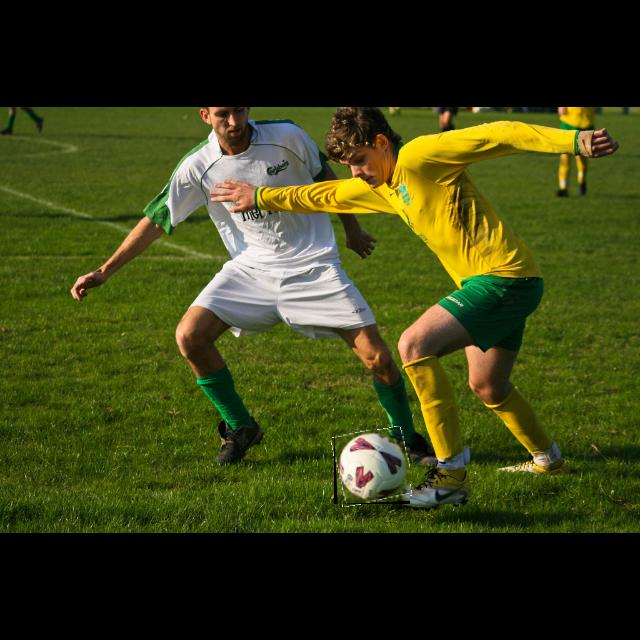Football: (334, 430, 410, 504)
